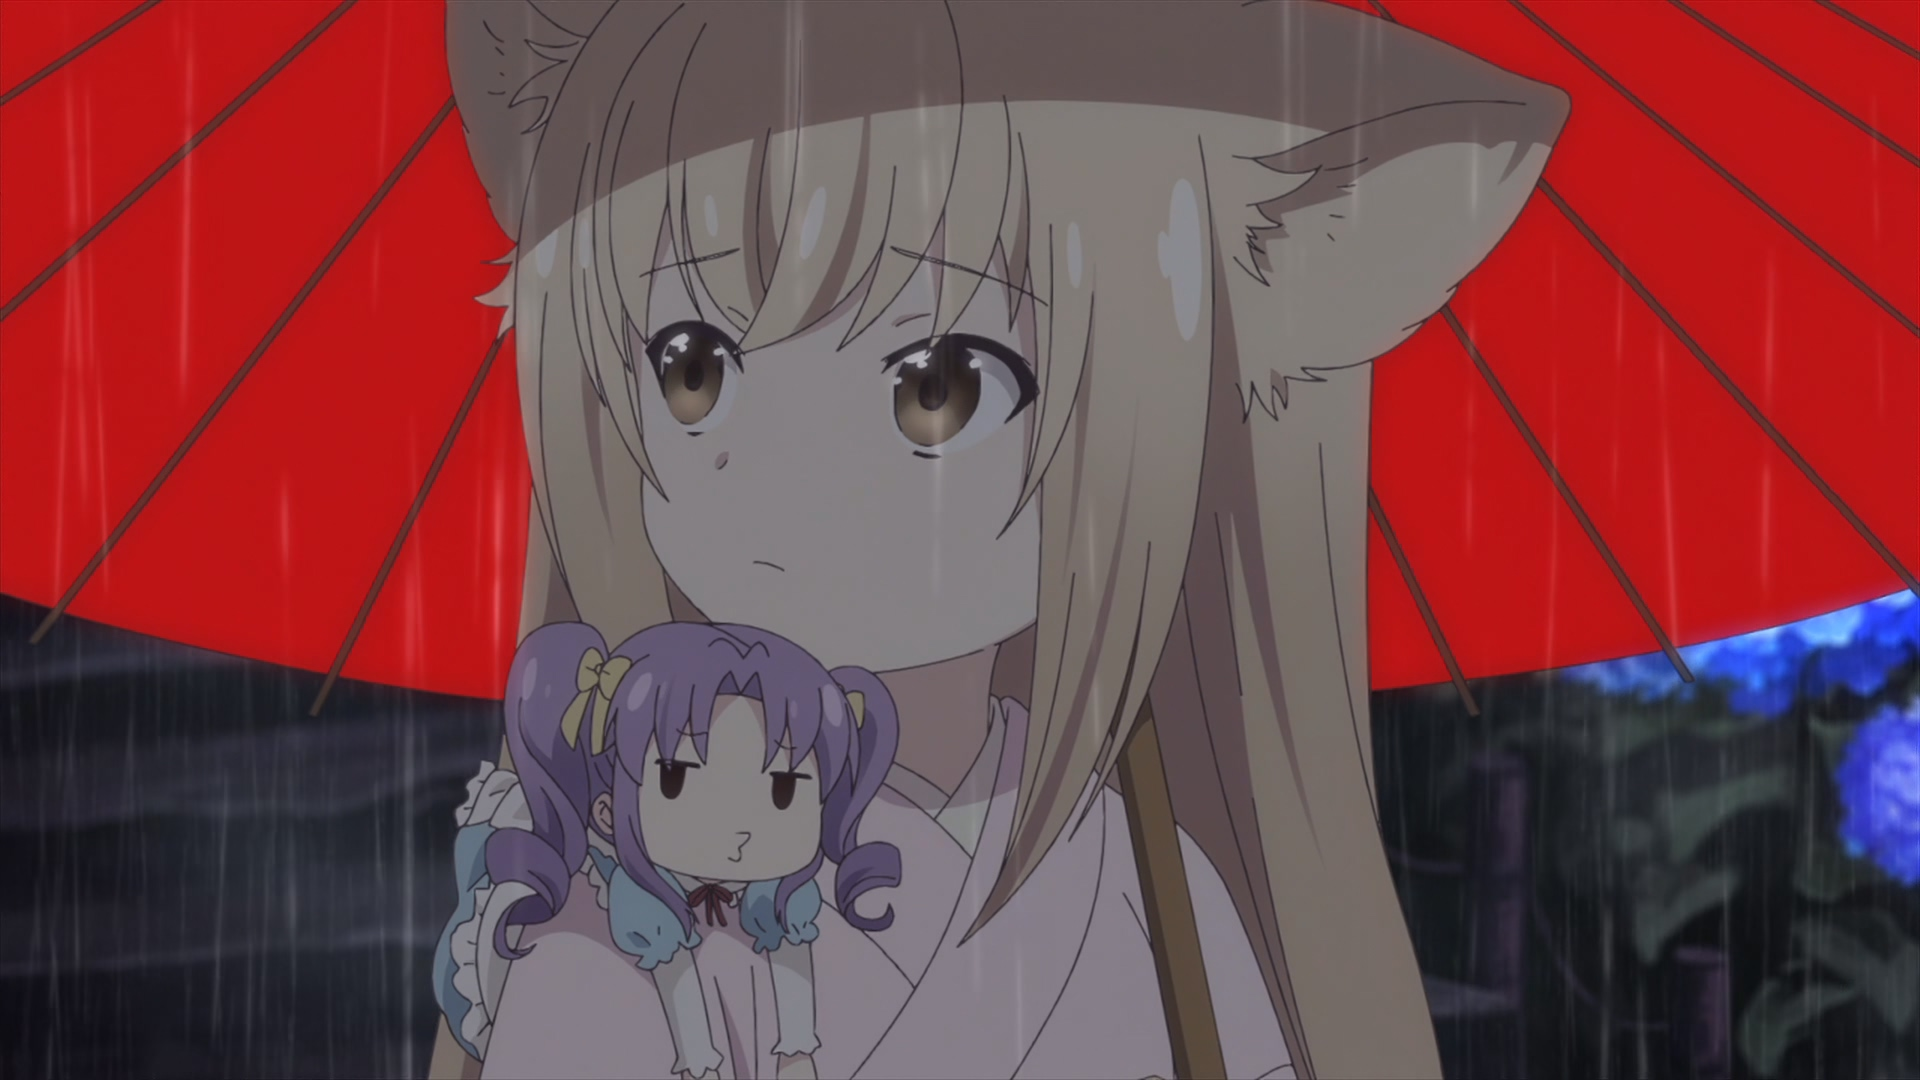柚: (429, 1, 1571, 1080)
阿菊: (434, 622, 902, 1080)
